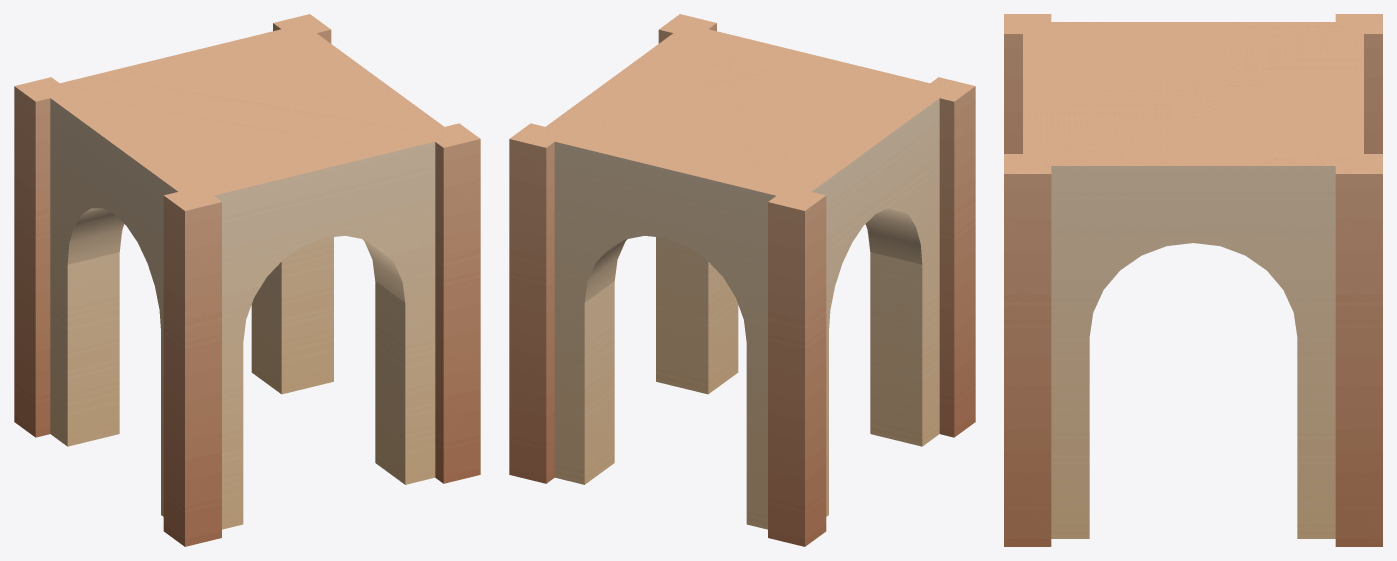
File: tower-square-arch.glb
3 renders of one model, left to right at view 1: azimuth 30°, elevation 25°; view 2: azimuth 150°, elevation 25°; view 3: azimuth 270°, elevation 25°, orthographic. The views are drawn at different scales.
Visible parts, largest first — view 1: tower-square-arch; view 2: tower-square-arch; view 3: tower-square-arch.
Boxes of the visible parts, left/top/right/bottom form: tower-square-arch: left=14, top=14, right=480, bottom=546; tower-square-arch: left=509, top=14, right=975, bottom=546; tower-square-arch: left=1004, top=14, right=1382, bottom=546.
Bounding box in the file's own units: 0.93 × 1.01 × 0.93.
Materials: 1 (1 with a texture image).
